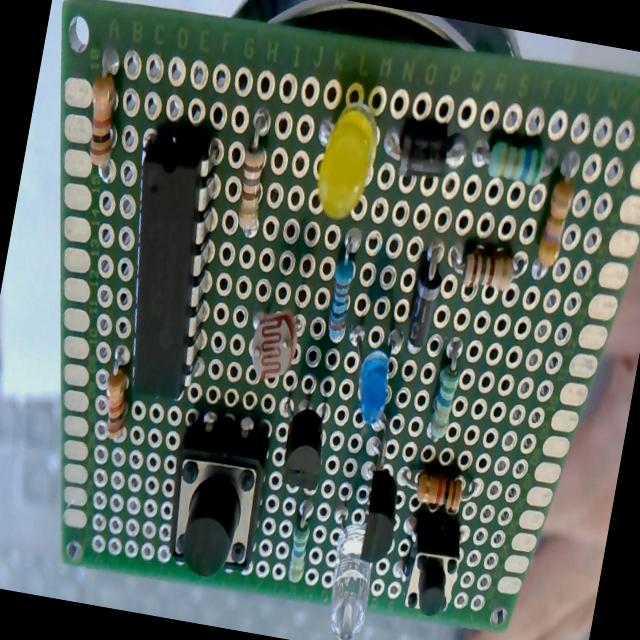IC: (102, 126, 229, 402)
cds: (238, 280, 306, 384)
diode: (376, 113, 474, 189), (404, 246, 447, 356)
led: (302, 92, 390, 226), (334, 318, 406, 432), (319, 519, 380, 640)
resistor: (534, 150, 582, 268), (475, 128, 560, 189), (322, 226, 364, 344), (232, 124, 274, 232), (79, 70, 124, 170), (426, 334, 466, 444), (94, 348, 138, 442), (448, 238, 520, 295), (283, 498, 316, 586), (413, 469, 465, 514)
switch: (158, 409, 274, 585), (396, 516, 466, 620)
transistor: (352, 412, 412, 566), (268, 389, 336, 500)
